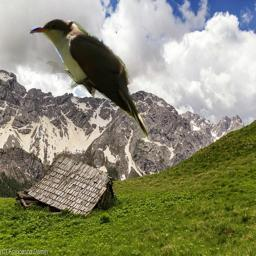Cuckoo: (27, 19, 148, 139)
